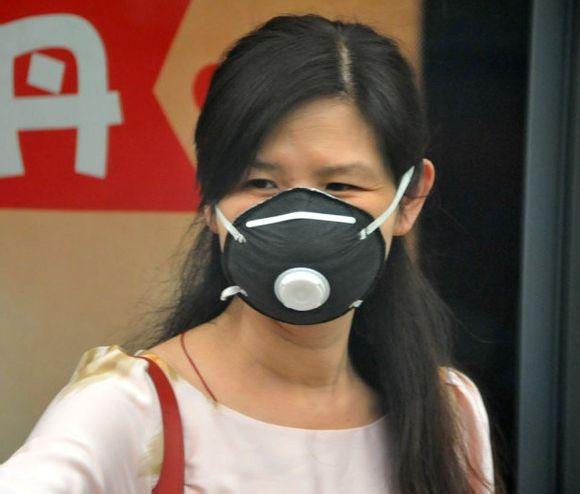OK: (216, 151, 384, 319)
